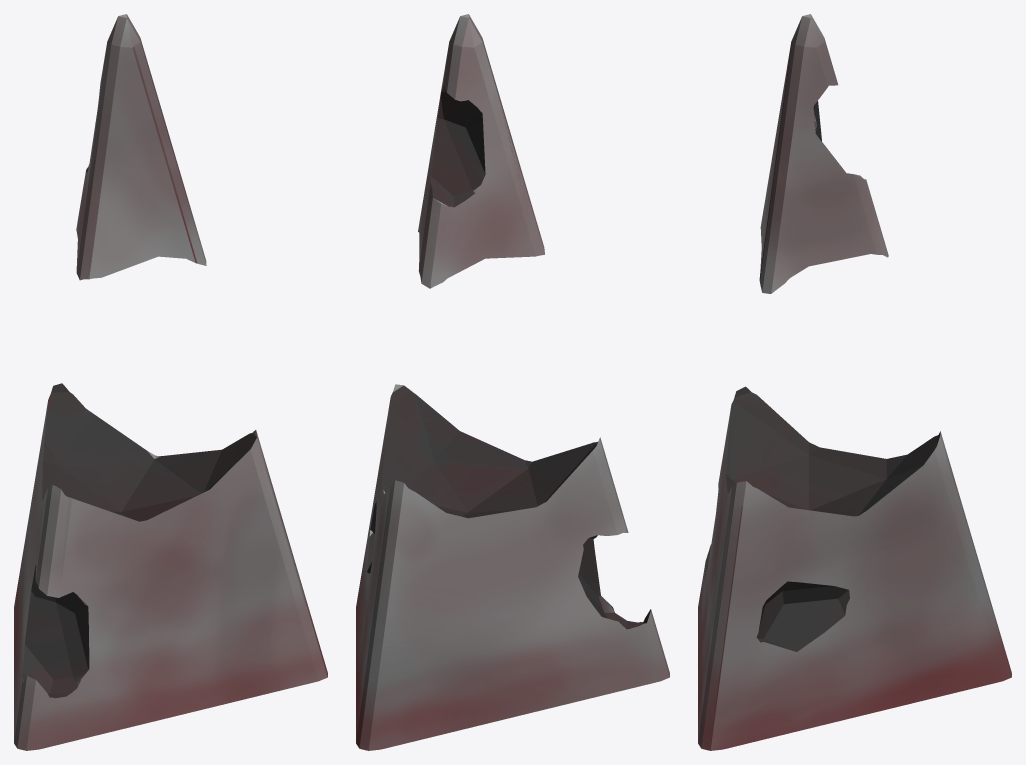
The model's file is pillar.fbx.
The picture shows the model from 3 angles, left to right: view 1: azimuth 30°, elevation 25°; view 2: azimuth 150°, elevation 25°; view 3: azimuth 270°, elevation 25°; orthographic projection.
Visible parts, largest first — view 1: Cone; view 2: Cone; view 3: Cone.
Boxes of the visible parts, x1,y1,x2,y2 form: Cone: (14, 14, 327, 750); Cone: (356, 14, 669, 750); Cone: (698, 14, 1011, 750).
Bounding box in the file's own units: 1.38 × 2.81 × 1.21.
1 material, 1 textured.
